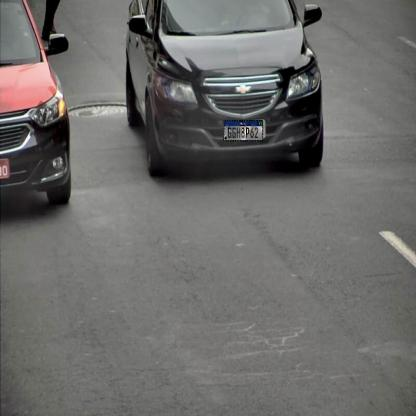PlacaM: (224, 120, 263, 141)
